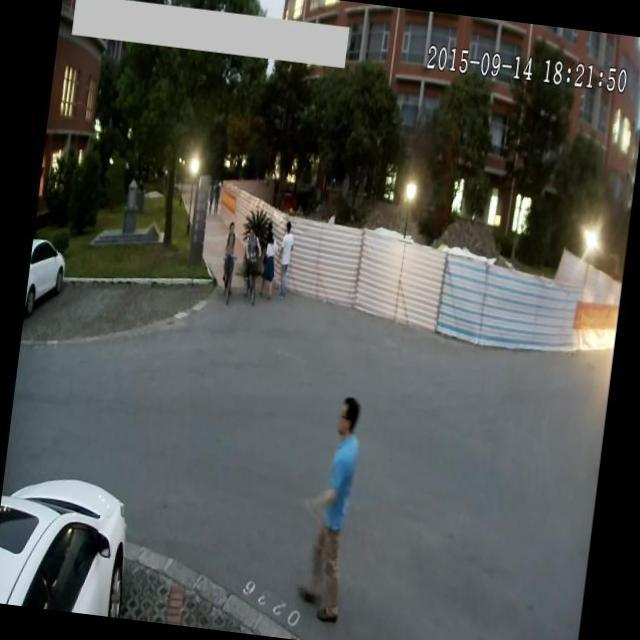person: (292, 379, 369, 630), (235, 224, 267, 306), (272, 216, 301, 304), (215, 218, 243, 308), (255, 219, 282, 300)
